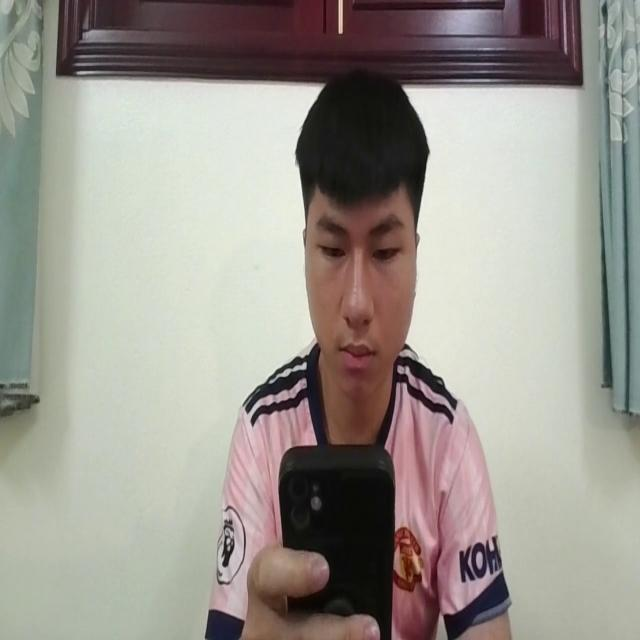phone: (277, 433, 396, 640)
student: (209, 64, 509, 640)
